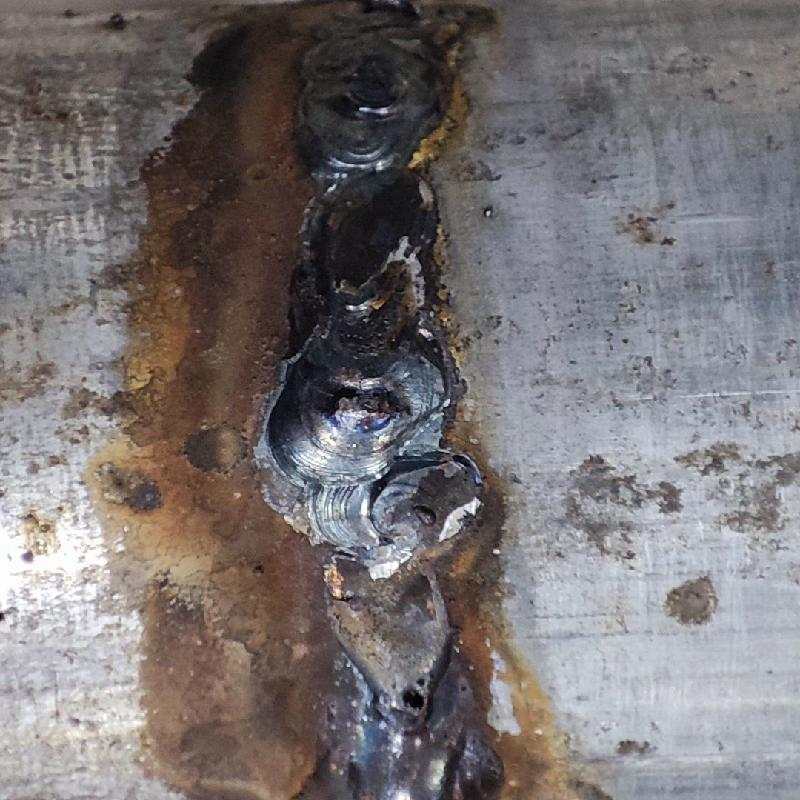Not_fully_soldered: (302, 471, 461, 721)
Surface_pores: (381, 669, 438, 714)
Weld: (306, 725, 500, 799)
